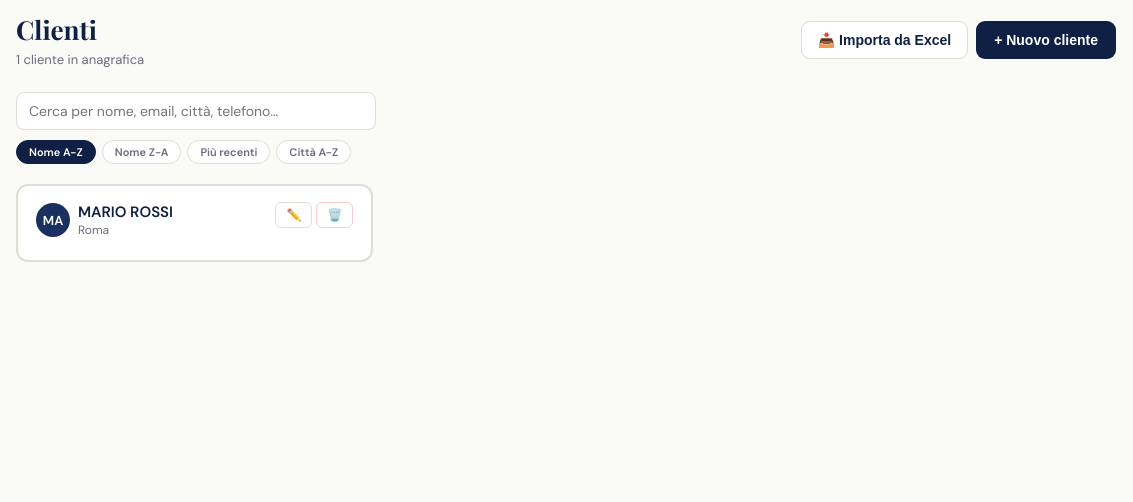
Scenario: Scheda cliente — tab Liste viaggio › selezionando un cliente compaiono i tab Task e Liste viaggio
This screenshot has width=1133, height=502.
Click the text "MARIO ROSSI" at {"x": 126, "y": 212}, box [78,202,173,222]
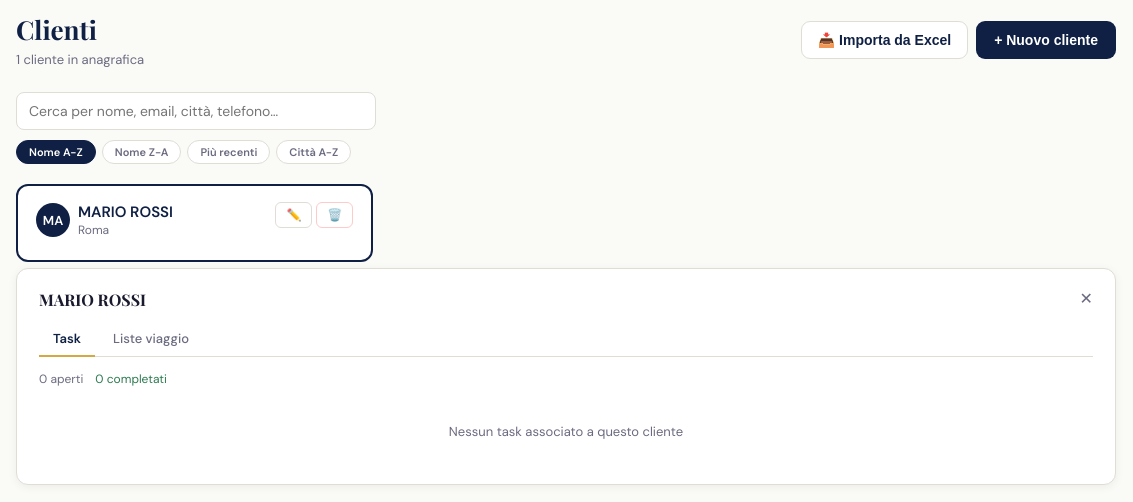
Expected: the button "Task" is shown, [39,322,95,357]
Expected: the button "Liste viaggio" is shown, [99,322,203,357]
